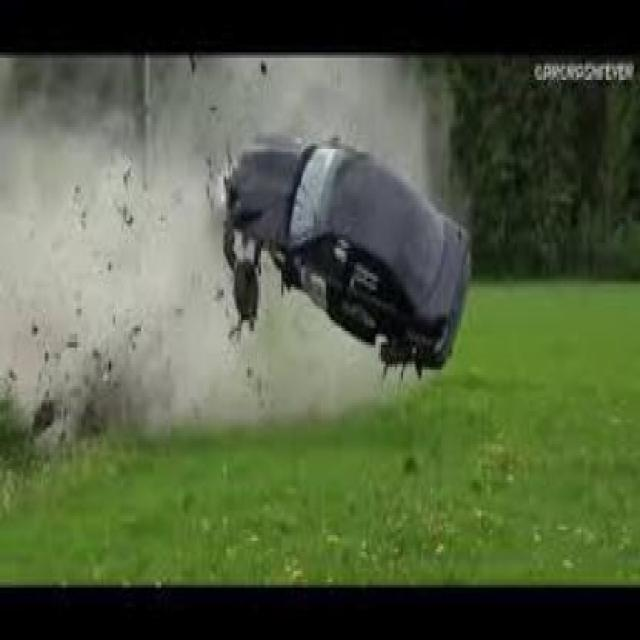accident: (212, 110, 478, 381)
